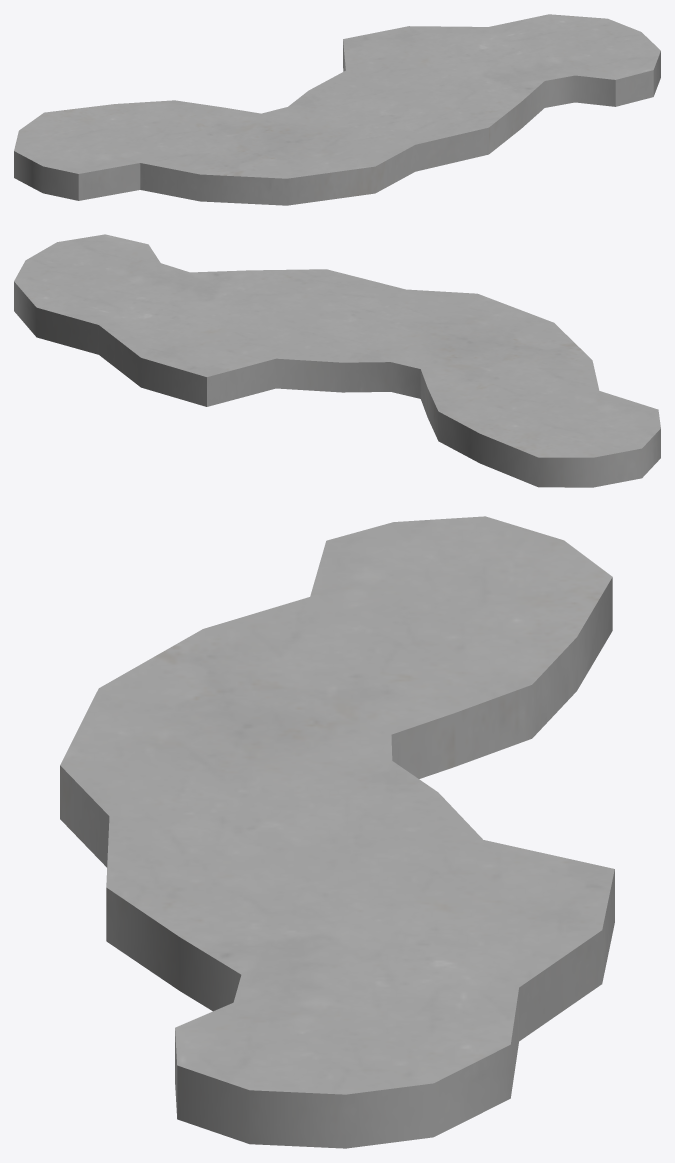
The model's file is SM_Ground_Debris_S3.fbx.
3 views of the same model, one above another, from view 1: azimuth 30°, elevation 25°; view 2: azimuth 150°, elevation 25°; view 3: azimuth 270°, elevation 25° (orthographic). The views are drawn at different scales.
Parts seen in each view (by area): view 1: SM_Ground_Debris_S3_LOD0; view 2: SM_Ground_Debris_S3_LOD0; view 3: SM_Ground_Debris_S3_LOD0.
Part boxes in pixels (bbox=[...]): SM_Ground_Debris_S3_LOD0: bbox=[14, 14, 660, 205]; SM_Ground_Debris_S3_LOD0: bbox=[14, 234, 660, 487]; SM_Ground_Debris_S3_LOD0: bbox=[60, 516, 614, 1148].
Size of the model in its own units: 149 by 60.36 by 6.48.
Materials: 1 (1 with a texture image).
